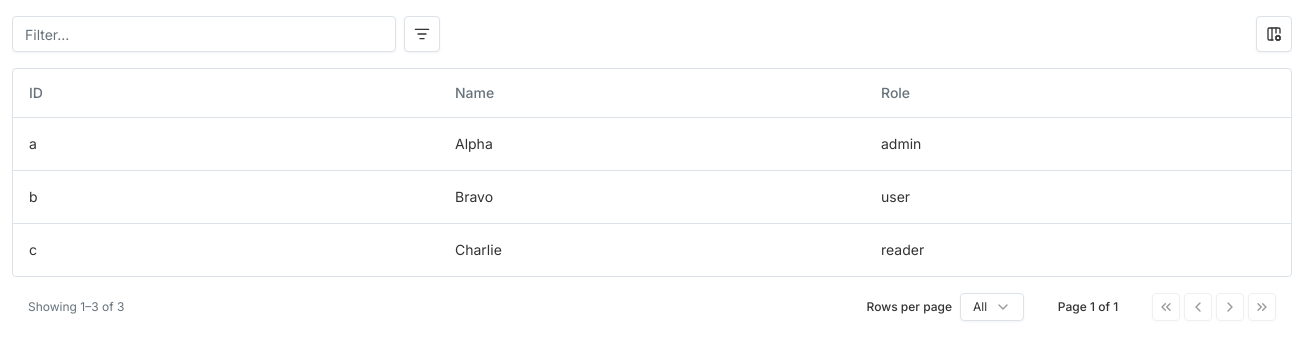
Scenario: DataTable — multi-column search › refilters immediately when the picker disables a column that an already-typed query matched (regression for d4c1b13)
Type "admin" into the field with placeholder "Filter..." at (204, 34), box [13,16,395,52]
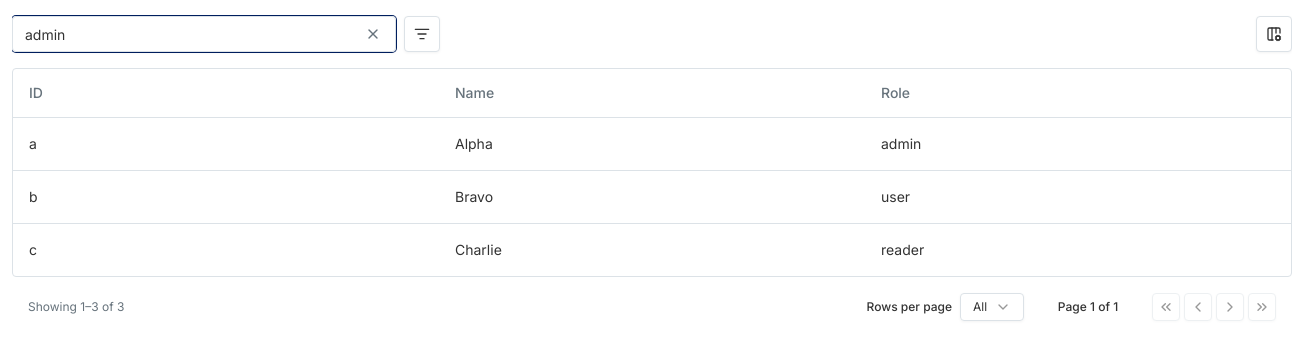
Expected: the text "Alpha" is shown, [439,117,865,170]
Click the button named "Search in" at (422, 34), box [404,16,440,52]
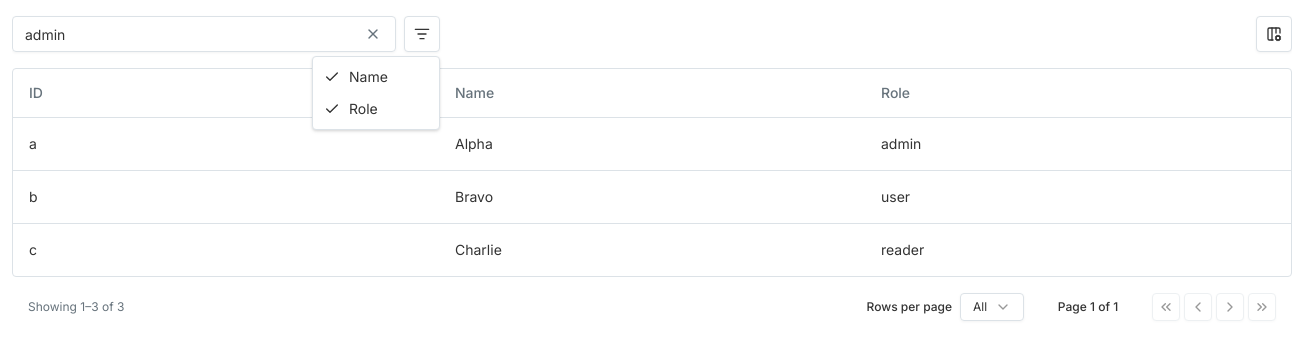
Click the menu item "role" at (351, 108), box [324,100,378,117]
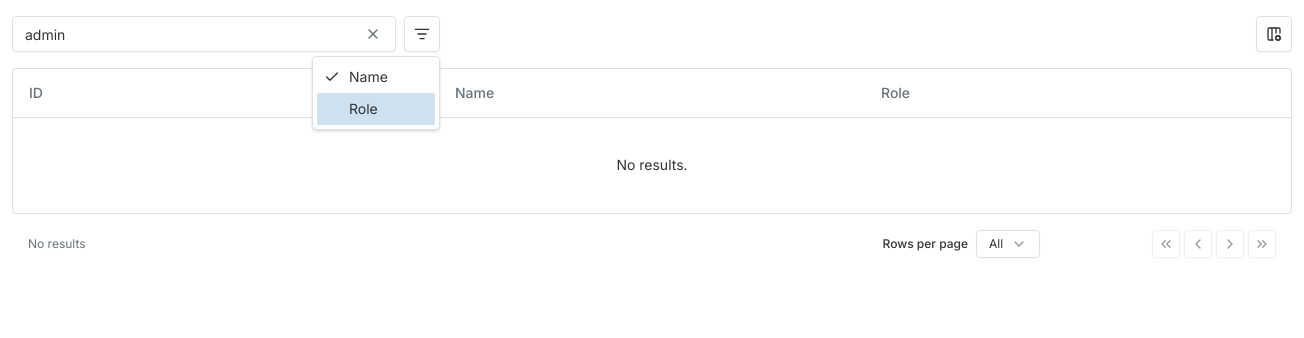
Now the text "Alpha" is gone
